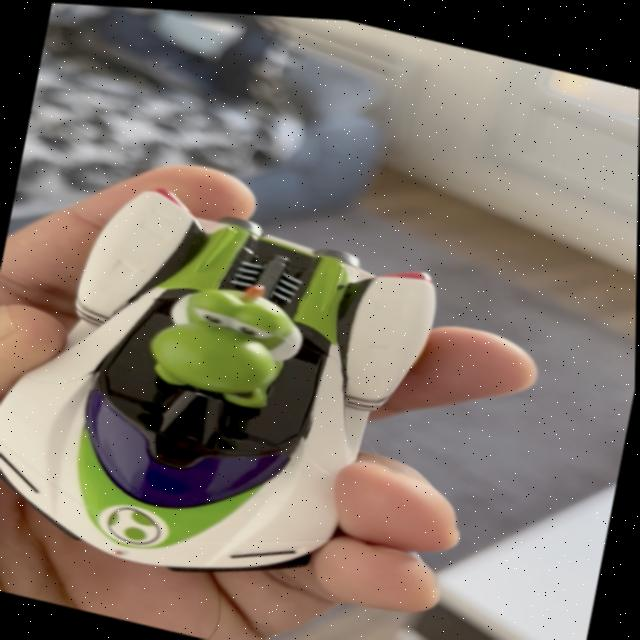yoshi: (0, 124, 471, 640)
